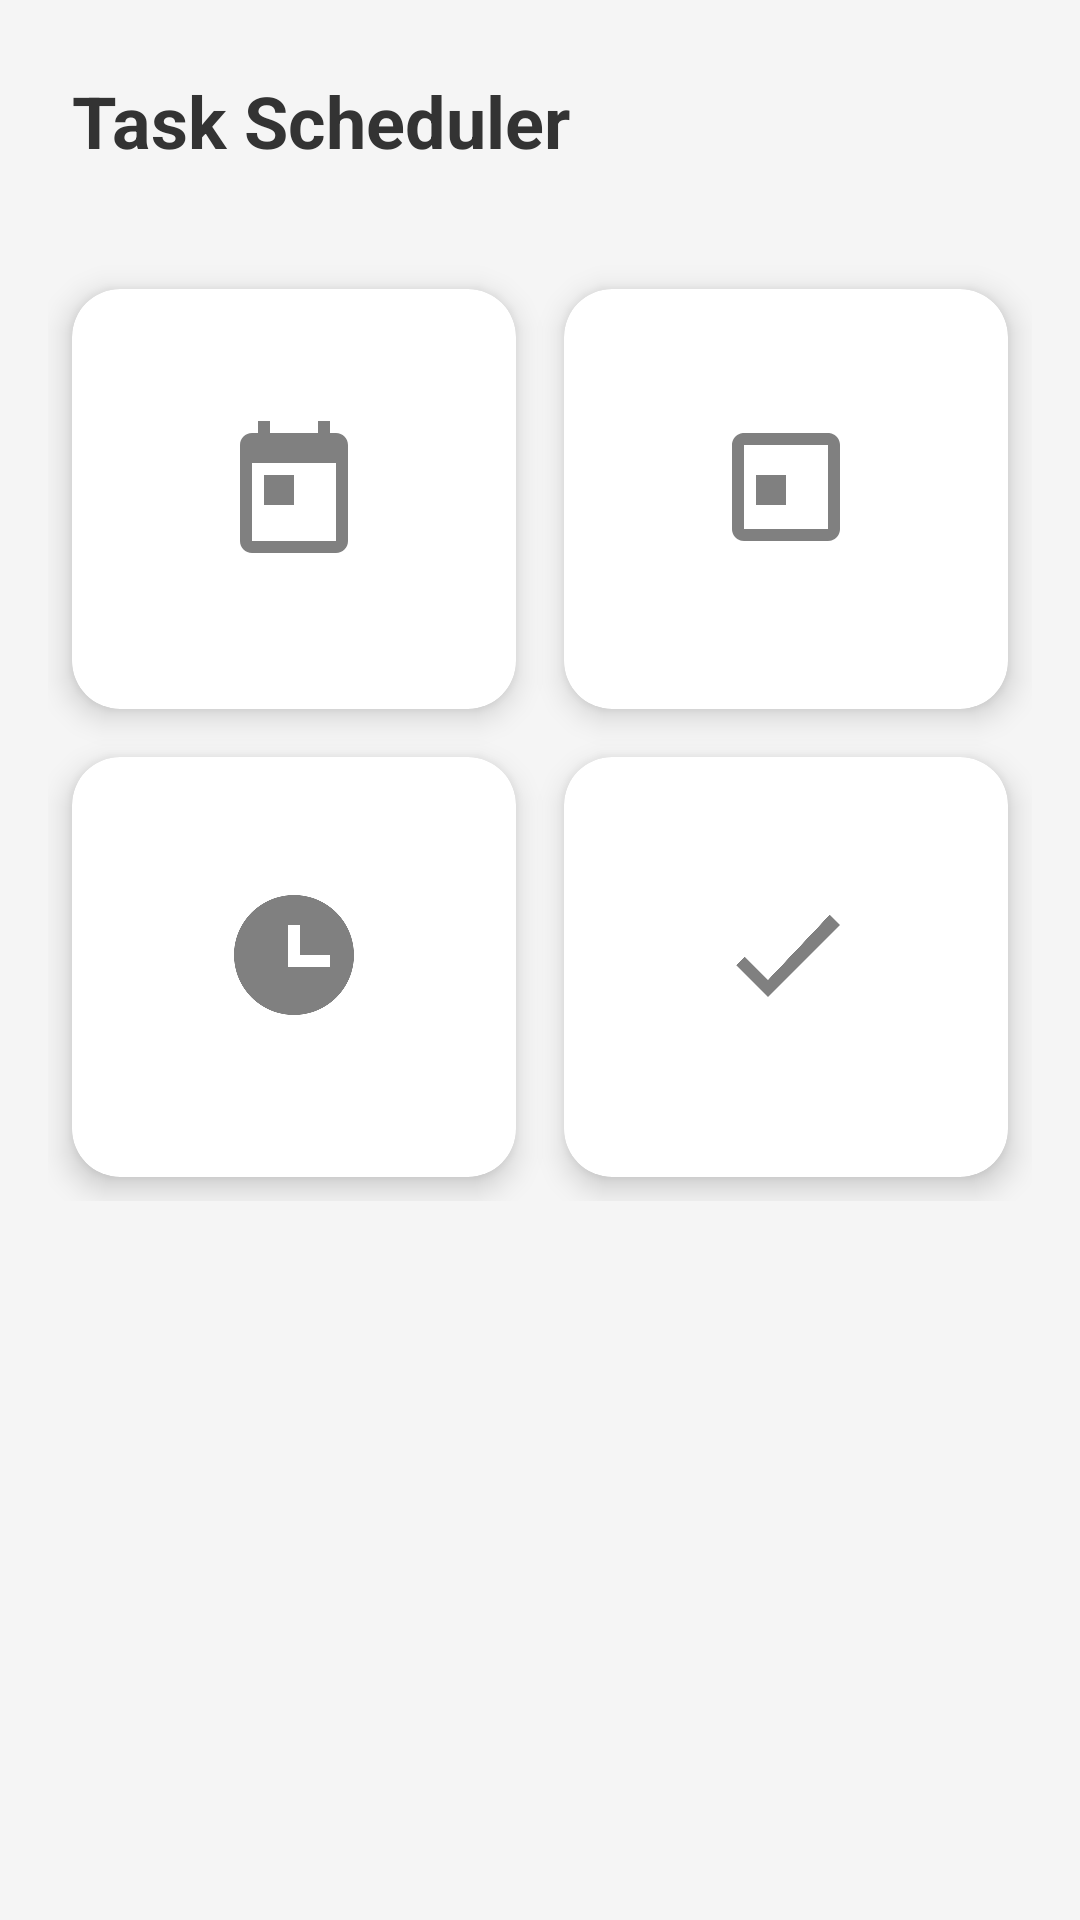

Icons on this 1080w x 1920h Android screen, each with the point to tap as (x,y):
Completed Icon: (788,956)
Upcoming Icon: (294,955)
